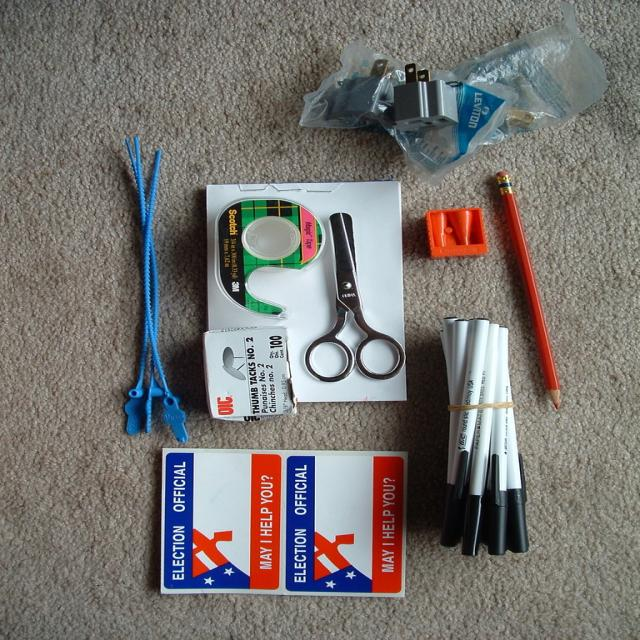scissors: (304, 211, 404, 382)
